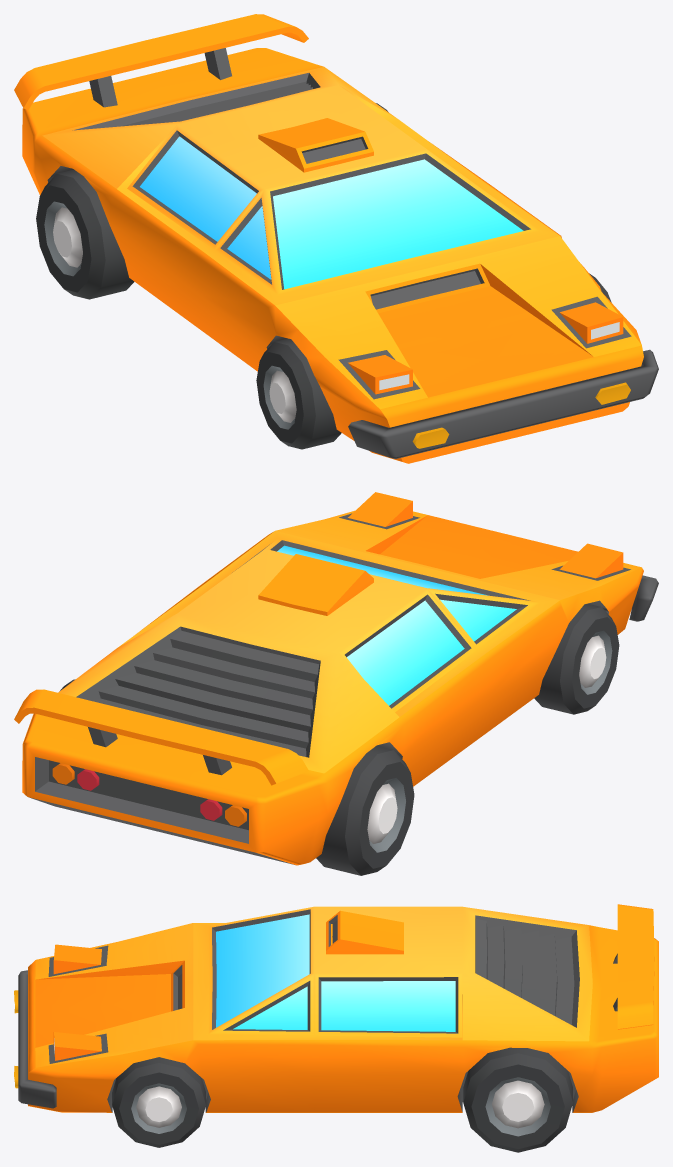
Rendered from city2-car-17.glb.
3 renders of one model, top to bottom at view 1: azimuth 30°, elevation 25°; view 2: azimuth 150°, elevation 25°; view 3: azimuth 270°, elevation 25°, orthographic. The views are drawn at different scales.
Parts seen in each view (by area): view 1: Car_17, Wheel_122, Wheel_121; view 2: Car_17, Wheel_122, Wheel_121; view 3: Car_17, Wheel_124, Wheel_123.
Boxes of the visible parts, bbox=[...] form: Car_17: bbox=[14, 14, 658, 463]; Wheel_122: bbox=[36, 169, 134, 299]; Wheel_121: bbox=[256, 338, 341, 449]; Car_17: bbox=[14, 492, 658, 865]; Wheel_122: bbox=[316, 746, 414, 875]; Wheel_121: bbox=[534, 603, 619, 714]; Car_17: bbox=[14, 904, 658, 1112]; Wheel_124: bbox=[463, 1047, 572, 1152]; Wheel_123: bbox=[112, 1057, 205, 1147].
Bounding box in the file's own units: 2.39 × 1.37 × 4.85.
Materials: 2 (2 with a texture image).
